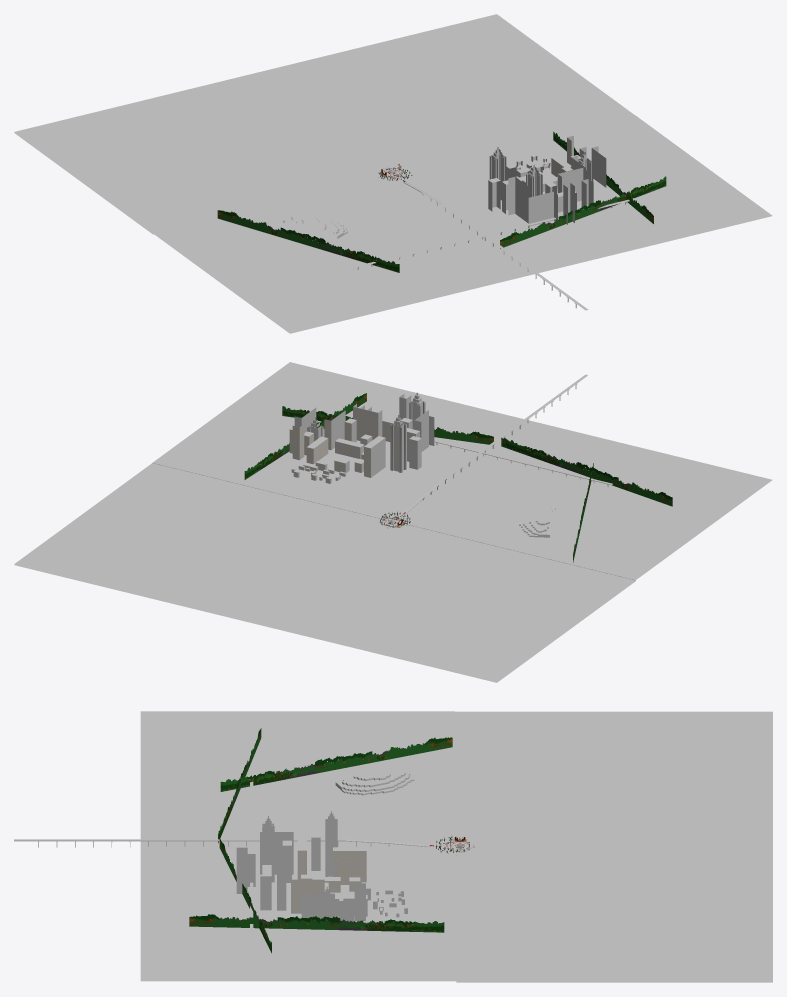
The model's file is Spooky_Lunapark #1244018.fbx.
3 renders of one model, top to bottom at view 1: azimuth 30°, elevation 25°; view 2: azimuth 150°, elevation 25°; view 3: azimuth 270°, elevation 25°, orthographic. The views are drawn at different scales.
Parts seen in each view (by area): view 1: Spooky_Lunapark_Water_horizont, Spooky_Lunapark_Ground_horizont, Spooky_Lunapark_City001, Spooky_Lunapark_Forest, Spooky_Lunapark_AutoBan, Spooky_Lunapark_Hill001; view 2: Spooky_Lunapark_Water_horizont, Spooky_Lunapark_Ground_horizont, Spooky_Lunapark_City001, Spooky_Lunapark_Forest, Spooky_Lunapark_AutoBan, Spooky_Lunapark, Spooky_Lunapark_Hill001; view 3: Spooky_Lunapark_Water_horizont, Spooky_Lunapark_Ground_horizont, Spooky_Lunapark_City001, Spooky_Lunapark_Forest, Spooky_Lunapark_AutoBan, Spooky_Lunapark_Hill001, Spooky_Lunapark.
Boxes of the visible parts, x1,y1,x2,y2 form: Spooky_Lunapark_Water_horizont: [14, 14, 634, 233]; Spooky_Lunapark_Ground_horizont: [153, 115, 772, 333]; Spooky_Lunapark_City001: [488, 135, 606, 226]; Spooky_Lunapark_Forest: [217, 131, 666, 272]; Spooky_Lunapark_AutoBan: [353, 181, 644, 310]; Spooky_Lunapark_Hill001: [283, 215, 347, 238]; Spooky_Lunapark_Water_horizont: [14, 463, 635, 681]; Spooky_Lunapark_Ground_horizont: [152, 362, 772, 580]; Spooky_Lunapark_City001: [289, 392, 434, 483]; Spooky_Lunapark_Forest: [244, 393, 672, 562]; Spooky_Lunapark_AutoBan: [327, 374, 612, 514]; Spooky_Lunapark: [14, 517, 635, 682]; Spooky_Lunapark_Hill001: [519, 506, 555, 537]; Spooky_Lunapark_Water_horizont: [455, 711, 772, 981]; Spooky_Lunapark_Ground_horizont: [140, 711, 456, 981]; Spooky_Lunapark_City001: [236, 811, 407, 922]; Spooky_Lunapark_Forest: [189, 728, 452, 953]; Spooky_Lunapark_AutoBan: [14, 770, 433, 932]; Spooky_Lunapark_Hill001: [335, 768, 414, 795]; Spooky_Lunapark: [447, 839, 772, 982].
Size of the model in its own units: 2500 by 294 by 2971.
